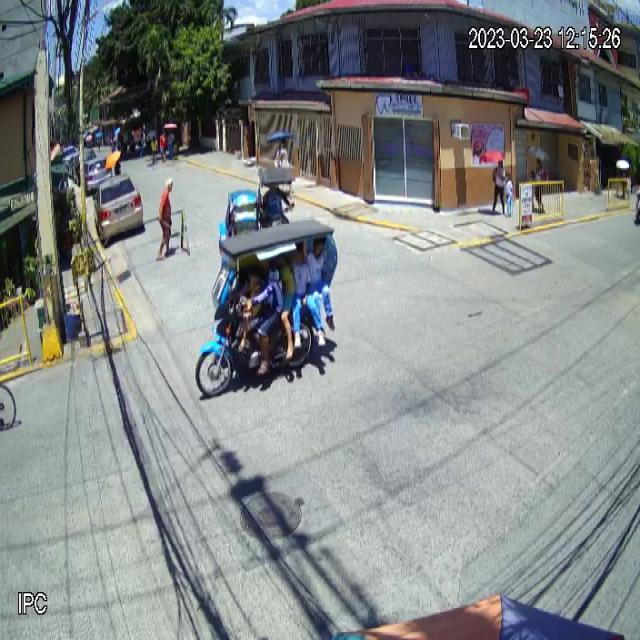Tricycle: (196, 218, 336, 401)
